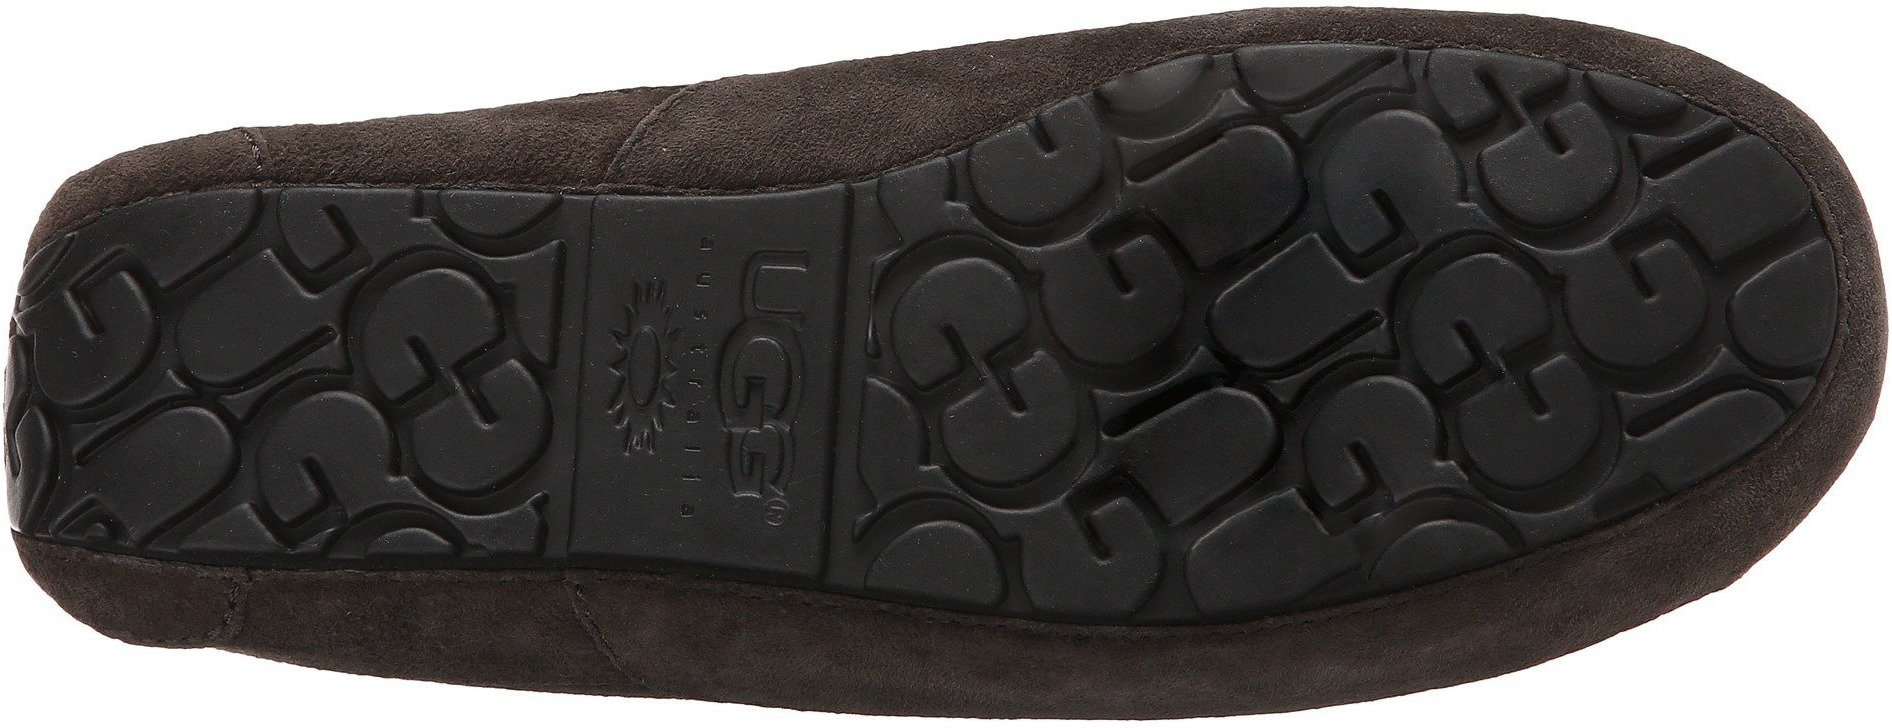text: (947, 188, 1286, 516), (243, 231, 559, 532), (1294, 85, 1557, 333), (1303, 331, 1547, 544), (662, 386, 816, 548), (670, 235, 817, 369)
